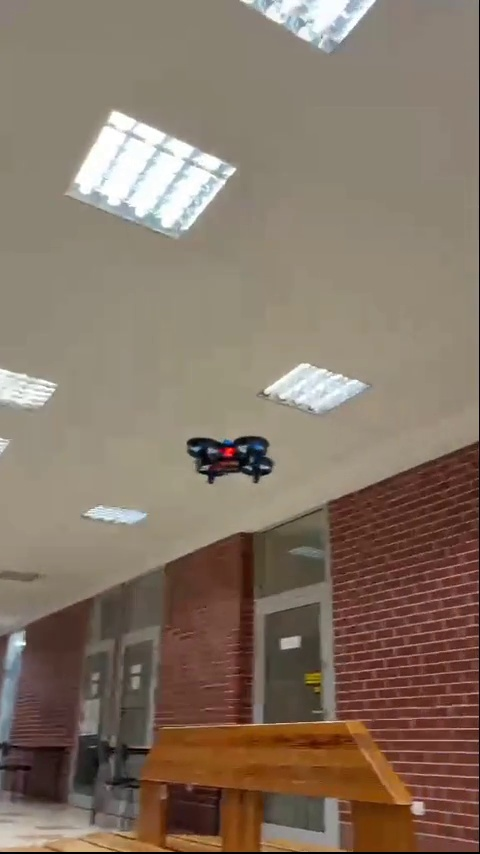drone: (184, 432, 276, 488)
